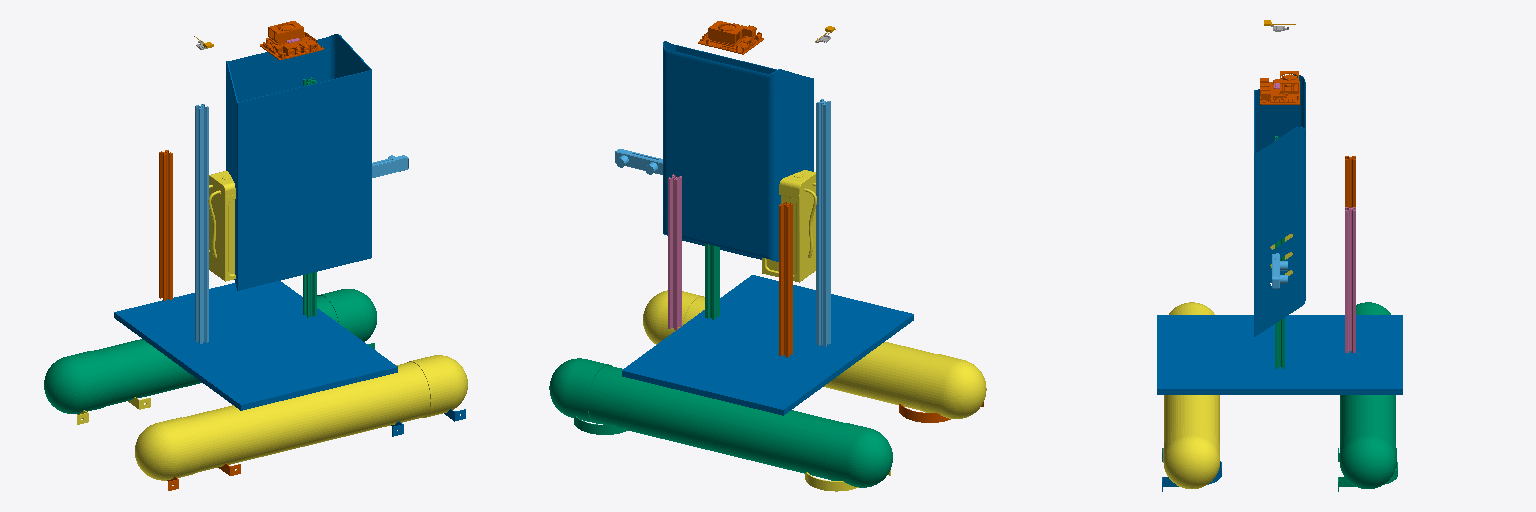
robot.urdf — asv_station_keeping_diag:
<?xml version='1.0' encoding='utf-8'?>
<robot name="asv_station_keeping_diag">
  <!-- Mesh-loading test only. Mounting poses are estimates, not Fusion occurrence transforms. 00_base has no visuals. -->
  <link name="base_footprint" />
  <link name="base_link">
    <inertial>
      <origin xyz="0 0 0" rpy="0 0 0" />
      <mass value="0.1" />
      <inertia ixx="0.0001" ixy="0" ixz="0" iyy="0.0001" iyz="0" izz="0.0001" />
    </inertial>
  </link>
  <link name="hull_left">
    <inertial>
      <origin xyz="0.0017543 -0.0000047 -0.0000010" rpy="0 0 0" />
      <mass value="8.7513272838" />
      <inertia ixx="0.0159438897" ixy="0" ixz="0" iyy="0.7485544942" iyz="0" izz="0.7485544942" />
    </inertial>
    <visual name="hull_left_visual">
      <origin xyz="-0.971730 0.357754 -1.641617" rpy="0 0 -1.57079632679" />
      <geometry>
        <mesh filename="package://asv_station_keeping/meshes/hull.stl" scale="0.001 0.001 0.001" />
      </geometry>
    </visual>
    <collision name="hull_left_collision">
      <geometry>
        <box size="0.724805 0.112973 0.112998" />
      </geometry>
    </collision>
  </link>
  <link name="hull_right">
    <inertial>
      <origin xyz="0.0017543 -0.0000047 -0.0000010" rpy="0 0 0" />
      <mass value="8.7513272838" />
      <inertia ixx="0.0159438897" ixy="0" ixz="0" iyy="0.7485544942" iyz="0" izz="0.7485544942" />
    </inertial>
    <visual name="hull_right_visual">
      <origin xyz="-0.971730 0.357754 -1.641617" rpy="0 0 -1.57079632679" />
      <geometry>
        <mesh filename="package://asv_station_keeping/meshes/hull.stl" scale="0.001 0.001 0.001" />
      </geometry>
    </visual>
    <collision name="hull_right_collision">
      <geometry>
        <box size="0.724805 0.112973 0.112998" />
      </geometry>
    </collision>
  </link>
  <link name="base_deck">
    <inertial>
      <origin xyz="0 0 0" rpy="0 0 0" />
      <mass value="16.1553" />
      <inertia ixx="0.3234344911" ixy="0" ixz="0" iyy="0.1651125511" iyz="0" izz="0.4881593150" />
    </inertial>
    <visual name="base_deck_visual">
      <origin xyz="-0.142254 -0.216347 -0.006000" rpy="1.57079632679 0 0" />
      <geometry>
        <mesh filename="package://asv_station_keeping/meshes/base_deck.stl" scale="0.001 0.001 0.001" />
      </geometry>
    </visual>
    <collision name="base_deck_collision">
      <geometry>
        <box size="0.350 0.490 0.012" />
      </geometry>
    </collision>
  </link>
  <link name="frame1_left">
    <inertial>
      <origin xyz="0 0 0" />
      <mass value="0.41469714" />
      <inertia ixx="0.00333785" ixy="0" ixz="0" iyy="0.00333785" iyz="0" izz="0.0000336422" />
    </inertial>
    <visual>
      <geometry>
        <mesh filename="package://asv_station_keeping/meshes/frame1.stl" scale="0.001 0.001 0.001" />
      </geometry>
    </visual>
    <collision>
      <geometry>
        <cylinder radius="0.010" length="0.310" />
      </geometry>
    </collision>
  </link>
  <link name="frame1_right">
    <inertial>
      <origin xyz="0 0 0" />
      <mass value="0.41469714" />
      <inertia ixx="0.00333785" ixy="0" ixz="0" iyy="0.00333785" iyz="0" izz="0.0000336422" />
    </inertial>
    <visual>
      <geometry>
        <mesh filename="package://asv_station_keeping/meshes/frame1.stl" scale="0.001 0.001 0.001" />
      </geometry>
    </visual>
    <collision>
      <geometry>
        <cylinder radius="0.010" length="0.310" />
      </geometry>
    </collision>
  </link>
  <link name="frame2_left">
    <inertial>
      <origin xyz="0 0 0" />
      <mass value="0.66886635" />
      <inertia ixx="0.01396185" ixy="0" ixz="0" iyy="0.01396185" iyz="0" izz="0.000054262" />
    </inertial>
    <visual>
      <geometry>
        <mesh filename="package://asv_station_keeping/meshes/frame2.stl" scale="0.001 0.001 0.001" />
      </geometry>
    </visual>
    <collision>
      <geometry>
        <cylinder radius="0.010" length="0.500" />
      </geometry>
    </collision>
  </link>
  <link name="frame2_right">
    <inertial>
      <origin xyz="0 0 0" />
      <mass value="0.66886635" />
      <inertia ixx="0.01396185" ixy="0" ixz="0" iyy="0.01396185" iyz="0" izz="0.000054262" />
    </inertial>
    <visual>
      <geometry>
        <mesh filename="package://asv_station_keeping/meshes/frame2.stl" scale="0.001 0.001 0.001" />
      </geometry>
    </visual>
    <collision>
      <geometry>
        <cylinder radius="0.010" length="0.500" />
      </geometry>
    </collision>
  </link>
  <link name="frame3_left">
    <inertial>
      <origin xyz="0 0 0" />
      <mass value="0.66886635" />
      <inertia ixx="0.01396185" ixy="0" ixz="0" iyy="0.01396185" iyz="0" izz="0.000054262" />
    </inertial>
    <visual>
      <geometry>
        <mesh filename="package://asv_station_keeping/meshes/frame3.stl" scale="0.001 0.001 0.001" />
      </geometry>
    </visual>
    <collision>
      <geometry>
        <cylinder radius="0.010" length="0.500" />
      </geometry>
    </collision>
  </link>
  <link name="frame3_right">
    <inertial>
      <origin xyz="0 0 0" />
      <mass value="0.66886635" />
      <inertia ixx="0.01396185" ixy="0" ixz="0" iyy="0.01396185" iyz="0" izz="0.000054262" />
    </inertial>
    <visual>
      <geometry>
        <mesh filename="package://asv_station_keeping/meshes/frame3.stl" scale="0.001 0.001 0.001" />
      </geometry>
    </visual>
    <collision>
      <geometry>
        <cylinder radius="0.010" length="0.500" />
      </geometry>
    </collision>
  </link>
  <link name="battery">
    <inertial>
      <origin xyz="0.011821 0 0.000846" />
      <mass value="8.29420474" />
      <inertia ixx="0.0317350" ixy="0" ixz="0.0000687" iyy="0.0339037" iyz="0" izz="0.00778636" />
    </inertial>
    <visual>
      <origin xyz="0.012244 -0.035000 -0.000150" />
      <geometry>
        <mesh filename="package://asv_station_keeping/meshes/battery.stl" scale="0.001 0.001 0.001" />
      </geometry>
    </visual>
    <collision>
      <geometry>
        <box size="0.109 0.070 0.202" />
      </geometry>
    </collision>
  </link>
  <link name="electronics">
    <inertial>
      <origin xyz="0 -0.005565 -0.000224" />
      <mass value="4.50915118" />
      <inertia ixx="0.0697094" ixy="0" ixz="0" iyy="0.1035140" iyz="-0.00452282" izz="0.0519051" />
    </inertial>
    <visual>
      <origin xyz="0 -0.051000 -0.023578" />
      <geometry>
        <mesh filename="package://asv_station_keeping/meshes/electronics.stl" scale="0.001 0.001 0.001" />
      </geometry>
    </visual>
    <collision>
      <geometry>
        <box size="0.300 0.102 0.447" />
      </geometry>
    </collision>
  </link>
  <link name="jetson_nano">
    <inertial>
      <origin xyz="-0.001623 0.002547 -0.004382" />
      <mass value="0.55767391" />
      <inertia ixx="0.00033845" ixy="0.000000893" ixz="0.00000257" iyy="0.00033690" iyz="-0.00004065" izz="0.00056875" />
    </inertial>
    <visual>
      <origin xyz="-0.004000 -0.007385 -0.025097" />
      <geometry>
        <mesh filename="package://asv_station_keeping/meshes/Jetson-Nano.stl" scale="0.001 0.001 0.001" />
      </geometry>
    </visual>
    <collision>
      <geometry>
        <box size="0.100 0.080 0.040" />
      </geometry>
    </collision>
  </link>
  <link name="imu_link">
    <inertial>
      <origin xyz="-0.00000256 0.00000402 0" />
      <mass value="0.00700317" />
      <inertia ixx="0.0000002895" ixy="0.000000000021" ixz="0" iyy="0.0000003634" iyz="0" izz="0.0000006497" />
    </inertial>
    <visual>
      <geometry>
        <mesh filename="package://asv_station_keeping/meshes/imu_Adafruit-BNO085-STEMMA-QT.step_Printed-Circuit-Board.step.stl" scale="0.001 0.001 0.001" />
      </geometry>
    </visual>
    <collision>
      <geometry>
        <box size="0.0254 0.0229 0.00165" />
      </geometry>
    </collision>
  </link>
  <link name="gps">
    <inertial>
      <origin xyz="0.000722 -0.000920 -0.001504" />
      <mass value="0.0120864" />
      <inertia ixx="0.0000007935" ixy="-0.0000001189" ixz="-0.0000000123" iyy="0.0000003115" iyz="-0.0000000289" izz="0.0000010352" />
    </inertial>
    <visual>
      <origin xyz="0.477241 -0.271714 -0.058863" />
      <geometry>
        <mesh filename="package://asv_station_keeping/meshes/gps.stl" scale="0.001 0.001 0.001" />
      </geometry>
    </visual>
    <collision>
      <geometry>
        <box size="0.018 0.038 0.010" />
      </geometry>
    </collision>
  </link>
  <link name="gps_antenna">
    <inertial>
      <origin xyz="0 -0.023073 0.000028" />
      <mass value="0.00977979" />
      <inertia ixx="0.0000006570" ixy="0" ixz="0" iyy="0.0000001906" iyz="0.0000000297" izz="0.0000007948" />
    </inertial>
    <visual>
      <origin xyz="0 -0.024375 -0.002900" />
      <geometry>
        <mesh filename="package://asv_station_keeping/meshes/gps_antenna.stl" scale="0.001 0.001 0.001" />
      </geometry>
    </visual>
    <collision>
      <geometry>
        <box size="0.015 0.064 0.006" />
      </geometry>
    </collision>
  </link>
  <link name="zed_camera">
    <inertial>
      <origin xyz="0.001495 -0.005480 -0.000004" />
      <mass value="0.43618915" />
      <inertia ixx="0.00004355" ixy="-0.00000770" ixz="0.000000005" iyy="0.00057262" iyz="0.000000007" izz="0.00057177" />
    </inertial>
    <visual>
      <origin xyz="0.002250 -0.015125 -0.000012" />
      <geometry>
        <mesh filename="package://asv_station_keeping/meshes/zed_camera.stl" scale="0.001 0.001 0.001" />
      </geometry>
    </visual>
    <collision>
      <geometry>
        <box size="0.125 0.030 0.027" />
      </geometry>
    </collision>
  </link>
  <link name="clamp_left_front">
    <inertial>
      <origin xyz="0 0.001988 0" />
      <mass value="0.10948492" />
      <inertia ixx="0.00019881" ixy="0" ixz="0" iyy="0.00029460" iyz="0" izz="0.00048607" />
    </inertial>
    <visual>
      <origin xyz="-0.039825 -0.046506 -0.010000" />
      <geometry>
        <mesh filename="package://asv_station_keeping/meshes/clamp.stl" scale="0.001 0.001 0.001" />
      </geometry>
    </visual>
    <collision>
      <geometry>
        <box size="0.163 0.120 0.020" />
      </geometry>
    </collision>
  </link>
  <link name="clamp_left_rear">
    <inertial>
      <origin xyz="0 0.001988 0" />
      <mass value="0.10948492" />
      <inertia ixx="0.00019881" ixy="0" ixz="0" iyy="0.00029460" iyz="0" izz="0.00048607" />
    </inertial>
    <visual>
      <origin xyz="-0.039825 -0.046506 -0.010000" />
      <geometry>
        <mesh filename="package://asv_station_keeping/meshes/clamp.stl" scale="0.001 0.001 0.001" />
      </geometry>
    </visual>
    <collision>
      <geometry>
        <box size="0.163 0.120 0.020" />
      </geometry>
    </collision>
  </link>
  <link name="clamp_right_front">
    <inertial>
      <origin xyz="0 0.001988 0" />
      <mass value="0.10948492" />
      <inertia ixx="0.00019881" ixy="0" ixz="0" iyy="0.00029460" iyz="0" izz="0.00048607" />
    </inertial>
    <visual>
      <origin xyz="-0.039825 -0.046506 -0.010000" />
      <geometry>
        <mesh filename="package://asv_station_keeping/meshes/clamp.stl" scale="0.001 0.001 0.001" />
      </geometry>
    </visual>
    <collision>
      <geometry>
        <box size="0.163 0.120 0.020" />
      </geometry>
    </collision>
  </link>
  <link name="clamp_right_rear">
    <inertial>
      <origin xyz="0 0.001988 0" />
      <mass value="0.10948492" />
      <inertia ixx="0.00019881" ixy="0" ixz="0" iyy="0.00029460" iyz="0" izz="0.00048607" />
    </inertial>
    <visual>
      <origin xyz="-0.039825 -0.046506 -0.010000" />
      <geometry>
        <mesh filename="package://asv_station_keeping/meshes/clamp.stl" scale="0.001 0.001 0.001" />
      </geometry>
    </visual>
    <collision>
      <geometry>
        <box size="0.163 0.120 0.020" />
      </geometry>
    </collision>
  </link>
  <link name="thruster_left_front_mount">
    <inertial>
      <mass value="0.01" />
      <inertia ixx="0.000001" iyy="0.000001" izz="0.000001" ixy="0" ixz="0" iyz="0" />
    </inertial>
  </link>
  <link name="thruster_left_front_steer">
    <inertial>
      <mass value="0.01" />
      <inertia ixx="0.000001" iyy="0.000001" izz="0.000001" ixy="0" ixz="0" iyz="0" />
    </inertial>
  </link>
  <joint name="base_footprint_to_base_link" type="fixed">
    <parent link="base_footprint" />
    <child link="base_link" />
    <origin xyz="0 0 0" rpy="0 0 0" />
  </joint>
  <joint name="base_to_hull_left" type="fixed">
    <parent link="base_link" />
    <child link="hull_left" />
    <origin xyz="0 0.175 0.055" rpy="0 0 0" />
  </joint>
  <joint name="base_to_hull_right" type="fixed">
    <parent link="base_link" />
    <child link="hull_right" />
    <origin xyz="0 -0.175 0.055" rpy="0 0 0" />
  </joint>
  <joint name="base_to_base_deck" type="fixed">
    <parent link="base_link" />
    <child link="base_deck" />
    <origin xyz="0 0 0.145" rpy="0 0 0" />
  </joint>
  <joint name="deck_to_frame1_left" type="fixed">
    <parent link="base_deck" />
    <child link="frame1_left" />
    <origin xyz="-0.12 0.14 0.22" />
  </joint>
  <joint name="deck_to_frame1_right" type="fixed">
    <parent link="base_deck" />
    <child link="frame1_right" />
    <origin xyz="0.12 0.14 0.22" />
  </joint>
  <joint name="deck_to_frame2_left" type="fixed">
    <parent link="base_deck" />
    <child link="frame2_left" />
    <origin xyz="-0.12 -0.14 0.28" />
  </joint>
  <joint name="deck_to_frame2_right" type="fixed">
    <parent link="base_deck" />
    <child link="frame2_right" />
    <origin xyz="0.12 -0.14 0.28" />
  </joint>
  <joint name="deck_to_frame3_left" type="fixed">
    <parent link="base_deck" />
    <child link="frame3_left" />
    <origin xyz="-0.12 0 0.28" />
  </joint>
  <joint name="deck_to_frame3_right" type="fixed">
    <parent link="base_deck" />
    <child link="frame3_right" />
    <origin xyz="0.12 0 0.28" />
  </joint>
  <joint name="deck_to_battery" type="fixed">
    <parent link="base_deck" />
    <child link="battery" />
    <origin xyz="-0.06 0 0.265" />
  </joint>
  <joint name="deck_to_electronics" type="fixed">
    <parent link="base_deck" />
    <child link="electronics" />
    <origin xyz="0.08 0 0.370" />
  </joint>
  <joint name="electronics_to_jetson" type="fixed">
    <parent link="electronics" />
    <child link="jetson_nano" />
    <origin xyz="0 0 0.255" />
  </joint>
  <joint name="electronics_to_imu" type="fixed">
    <parent link="electronics" />
    <child link="imu_link" />
    <origin xyz="0 0 0.255" />
  </joint>
  <joint name="deck_to_gps" type="fixed">
    <parent link="base_deck" />
    <child link="gps" />
    <origin xyz="-0.12 0 0.66" />
  </joint>
  <joint name="gps_to_antenna" type="fixed">
    <parent link="gps" />
    <child link="gps_antenna" />
    <origin xyz="0 0 0.010" />
  </joint>
  <joint name="deck_to_zed_camera" type="fixed">
    <parent link="base_deck" />
    <child link="zed_camera" />
    <origin xyz="0.27 0 0.31" rpy="0 0 0" />
  </joint>
  <joint name="hull_left_to_clamp_front" type="fixed">
    <parent link="hull_left" />
    <child link="clamp_left_front" />
    <origin xyz="0.25 0 -0.045" />
  </joint>
  <joint name="hull_left_to_clamp_rear" type="fixed">
    <parent link="hull_left" />
    <child link="clamp_left_rear" />
    <origin xyz="-0.25 0 -0.045" />
  </joint>
  <joint name="hull_right_to_clamp_front" type="fixed">
    <parent link="hull_right" />
    <child link="clamp_right_front" />
    <origin xyz="0.25 0 -0.045" />
  </joint>
  <joint name="hull_right_to_clamp_rear" type="fixed">
    <parent link="hull_right" />
    <child link="clamp_right_rear" />
    <origin xyz="-0.25 0 -0.045" />
  </joint>
  <joint name="left_front_mount_joint" type="fixed">
    <parent link="hull_left" />
    <child link="thruster_left_front_mount" />
    <origin xyz="0.25 0 -0.050" rpy="0 0 0.7853981634" />
  </joint>
  <joint name="left_front_steering_joint" type="revolute">
    <parent link="thruster_left_front_mount" />
    <child link="thruster_left_front_steer" />
    <origin xyz="0 0 0" rpy="0 0 0" />
    <axis xyz="0 0 1" />
    <limit lower="-1.57079632679" upper="1.57079632679" effort="50" velocity="1.5" />
    <dynamics damping="0.5" friction="0.05" />
  </joint>
</robot>

--- Facts derived from the render (not from the file) ---
Views: 3 orthographic renders of the robot side by side, from view 1: azimuth 30°, elevation 25°; view 2: azimuth 150°, elevation 25°; view 3: azimuth 270°, elevation 25°.
Robot: asv_station_keeping_diag — 24 links, 23 joints (1 revolute, 22 fixed); root link base_footprint; default pose: every joint at zero.
Visible links, largest first — view 1: electronics, base_deck, hull_right, hull_left, frame3_left, battery, frame1_left, jetson_nano, frame3_right, zed_camera; view 2: electronics, base_deck, hull_left, hull_right, frame3_left, battery, frame1_left, frame1_right, jetson_nano, frame3_right, zed_camera; view 3: base_deck, electronics, hull_right, hull_left, frame1_right, jetson_nano, frame1_left, frame3_right.
Link boxes in pixels (box(x1,y1,x2,y2)): electronics: box(226, 34, 371, 290); base_deck: box(114, 281, 397, 410); hull_right: box(135, 355, 467, 480); hull_left: box(44, 289, 376, 413); frame3_left: box(195, 104, 208, 343); battery: box(208, 171, 235, 281); frame1_left: box(159, 150, 172, 300); jetson_nano: box(260, 21, 323, 59); frame3_right: box(303, 77, 316, 317); zed_camera: box(372, 155, 408, 177); electronics: box(663, 41, 813, 261); base_deck: box(622, 275, 913, 415); hull_left: box(549, 358, 892, 487); hull_right: box(643, 290, 986, 418); frame3_left: box(816, 99, 830, 346); battery: box(762, 170, 816, 282); frame1_left: box(779, 202, 792, 357); frame1_right: box(668, 174, 681, 330); jetson_nano: box(698, 21, 763, 54); frame3_right: box(705, 244, 719, 319); zed_camera: box(615, 149, 662, 174); base_deck: box(1157, 315, 1402, 394); electronics: box(1254, 75, 1305, 336); hull_right: box(1163, 302, 1219, 488); hull_left: box(1340, 302, 1396, 488); frame1_right: box(1345, 207, 1355, 352); jetson_nano: box(1260, 71, 1299, 104); frame1_left: box(1345, 156, 1355, 207); frame3_right: box(1275, 136, 1284, 368).
Size in the robot's own frame: 0.7248 by 0.49 by 0.8194 metres.
Meshes: 13 distinct files referenced, 18 mesh visuals loaded (12 binary STL); not drawn: 2 (reference not matched to a file when rendering).
